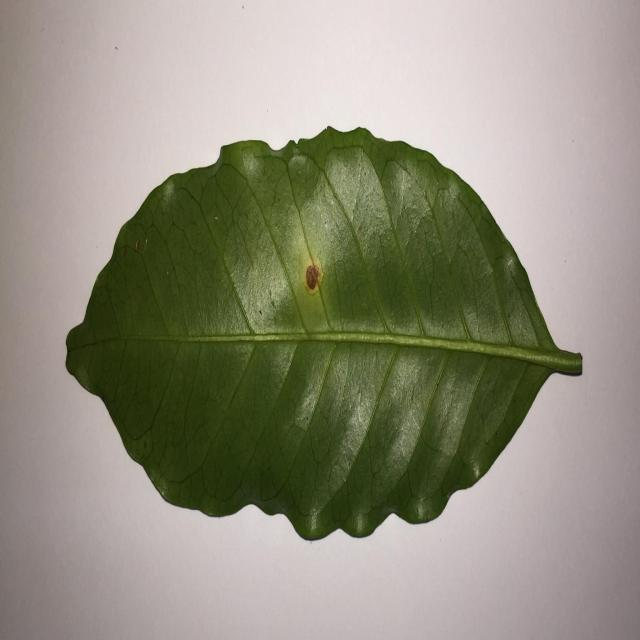Enfermedad-Mancha-de-hierro: (64, 128, 584, 546)
